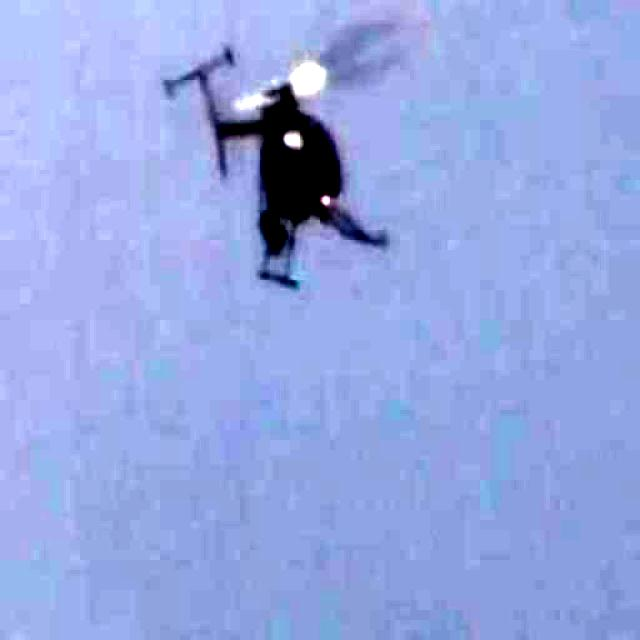drone: (149, 0, 435, 308)
